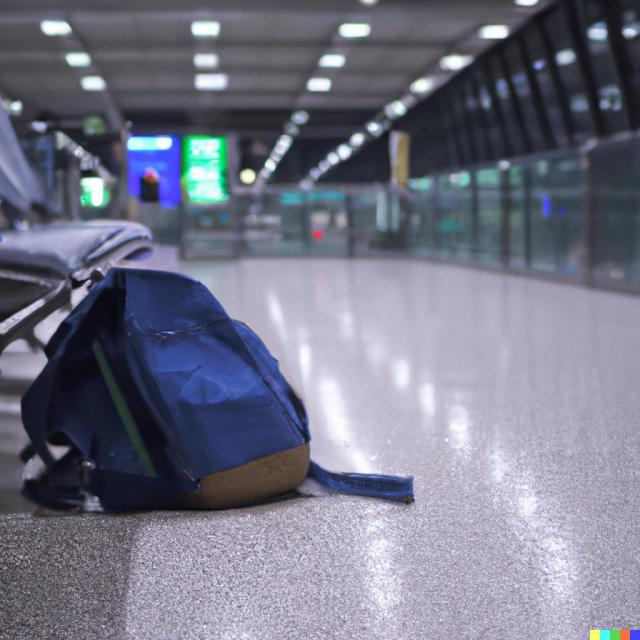Backpacks: (19, 262, 314, 514)
